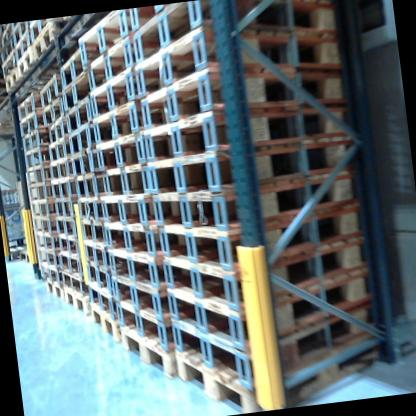pallet: (162, 256, 378, 353), (174, 324, 401, 416), (170, 294, 386, 387), (161, 192, 373, 286), (136, 14, 351, 103), (143, 123, 366, 207), (133, 53, 358, 133), (151, 162, 364, 246), (165, 225, 381, 305), (141, 97, 365, 171), (132, 0, 342, 71), (99, 230, 171, 297), (107, 287, 175, 354), (84, 64, 154, 125), (104, 265, 176, 321), (75, 10, 139, 69), (77, 32, 135, 96), (102, 207, 167, 264), (8, 33, 84, 80), (120, 322, 178, 383), (97, 182, 163, 235), (88, 98, 148, 145), (91, 134, 149, 171), (29, 24, 87, 59), (98, 161, 155, 194), (51, 42, 90, 90), (1, 60, 50, 95), (60, 121, 101, 161), (83, 258, 115, 303), (58, 266, 94, 303), (60, 96, 94, 135), (84, 280, 117, 320), (60, 283, 92, 324), (57, 71, 89, 112), (15, 107, 52, 141), (12, 92, 50, 125), (88, 304, 117, 347), (63, 146, 98, 181), (35, 261, 70, 296), (29, 210, 63, 245), (81, 232, 109, 273), (36, 272, 69, 304), (38, 69, 64, 108), (80, 216, 104, 257), (42, 114, 69, 150), (30, 226, 66, 253), (37, 94, 68, 125), (29, 194, 63, 222), (21, 163, 57, 189), (50, 177, 81, 207), (40, 136, 73, 163), (52, 213, 82, 242), (76, 194, 104, 223), (28, 20, 56, 49), (69, 170, 99, 197), (43, 156, 74, 181), (35, 244, 59, 275), (10, 21, 36, 49), (51, 193, 81, 215), (19, 147, 50, 168), (60, 249, 84, 276), (22, 128, 49, 151), (30, 180, 57, 200), (14, 36, 34, 63), (59, 233, 82, 256), (0, 44, 21, 64), (15, 246, 34, 268), (0, 31, 19, 50), (0, 57, 14, 76), (0, 25, 13, 43)
